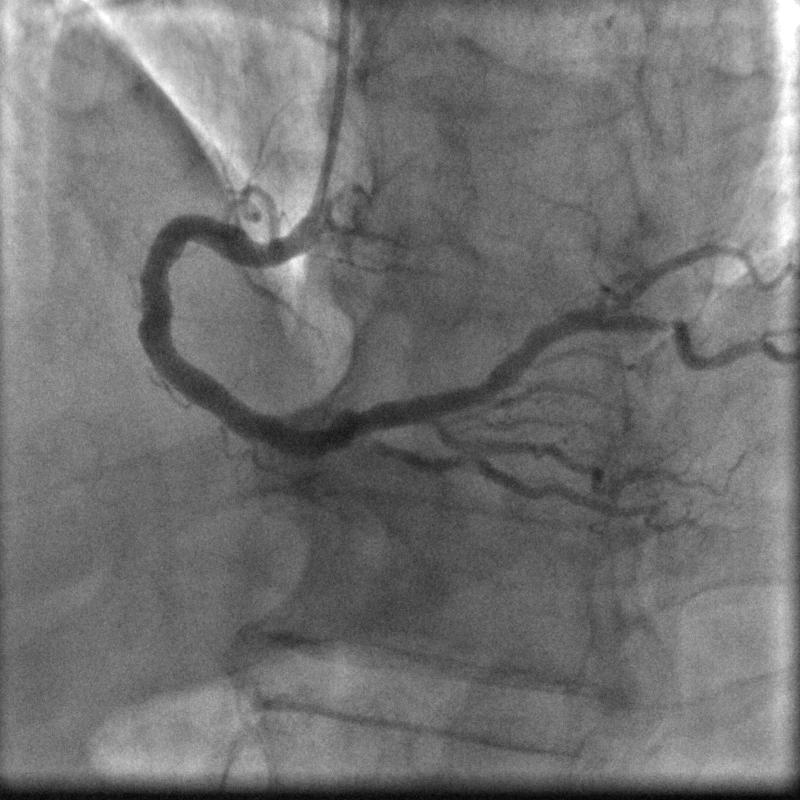Stenosis: (628, 311, 687, 340)
